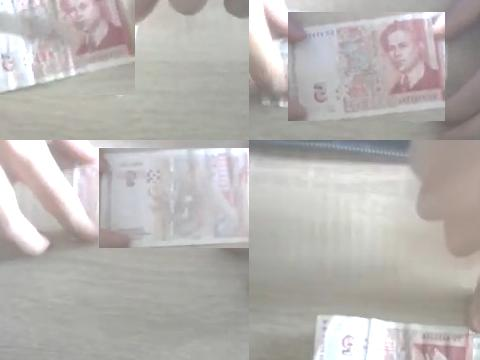5leva: (288, 12, 445, 121), (99, 148, 249, 248)
